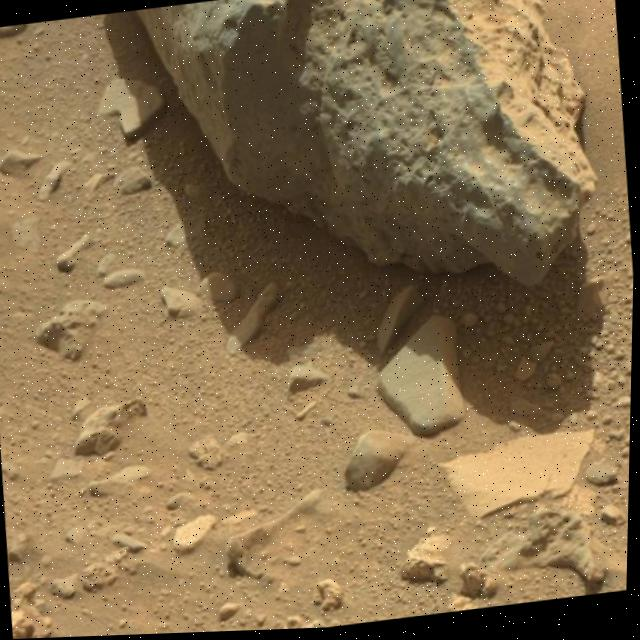mars-rocks: (136, 0, 597, 289), (444, 436, 596, 522), (379, 319, 467, 440), (484, 514, 609, 593)
